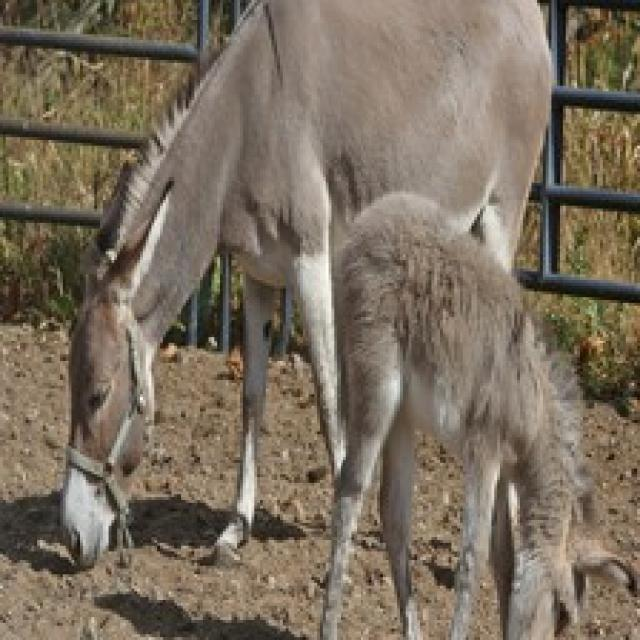Donkey: (57, 0, 554, 569), (312, 188, 637, 638)
